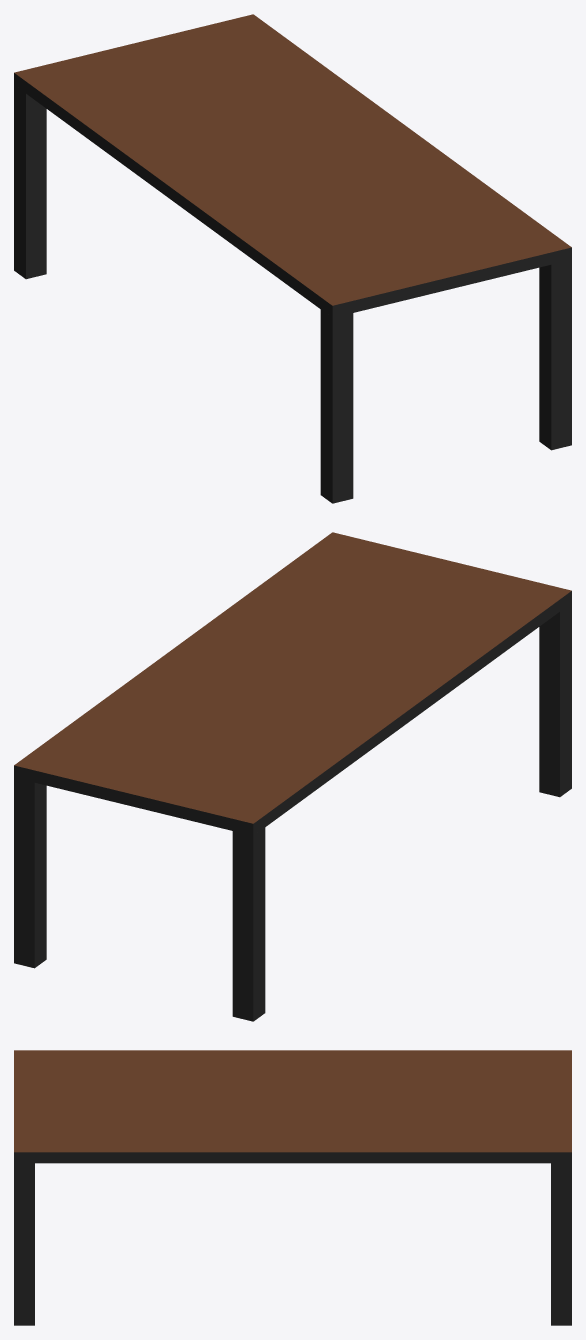
Rendered from GrandeTable_9.fbx.
3 views of the same model, one above another, from view 1: azimuth 30°, elevation 25°; view 2: azimuth 150°, elevation 25°; view 3: azimuth 270°, elevation 25° (orthographic). The views are drawn at different scales.
Parts seen in each view (by area): view 1: pCube43, pCube47, pCube46, pCube49; view 2: pCube43, pCube49, pCube48, pCube47; view 3: pCube43, pCube48, pCube46.
Part boxes in pixels (x1,y1,x2,y2): pCube43: (14,14,571,317); pCube47: (320,309,353,503); pCube46: (539,259,571,450); pCube49: (14,84,46,279); pCube43: (14,532,571,835); pCube49: (232,827,265,1021); pCube48: (14,777,46,968); pCube47: (539,602,571,797); pCube43: (14,1050,571,1163); pCube48: (551,1162,571,1325); pCube46: (14,1162,34,1325).
Bounding box in the file's own units: 50.06 × 39.53 × 115.
